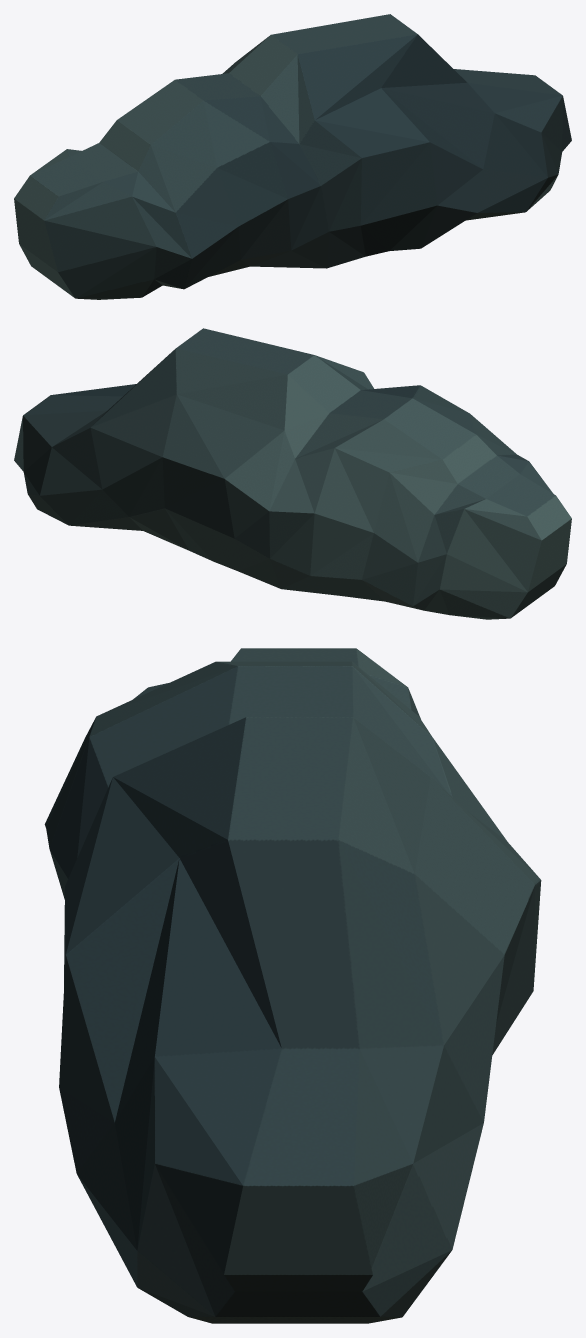
The model's file is Big.obj.
3 views of the same model, one above another, from view 1: azimuth 30°, elevation 25°; view 2: azimuth 150°, elevation 25°; view 3: azimuth 270°, elevation 25° (orthographic). The views are drawn at different scales.
Parts seen in each view (by area): view 1: Big; view 2: Big; view 3: Big.
Boxes of the visible parts, x1,y1,x2,y2 form: Big: [14, 14, 571, 299]; Big: [14, 328, 571, 619]; Big: [44, 648, 541, 1323].
Bounding box in the file's own units: 0.8861 × 0.3119 × 0.3635.
1 material, 1 textured.
